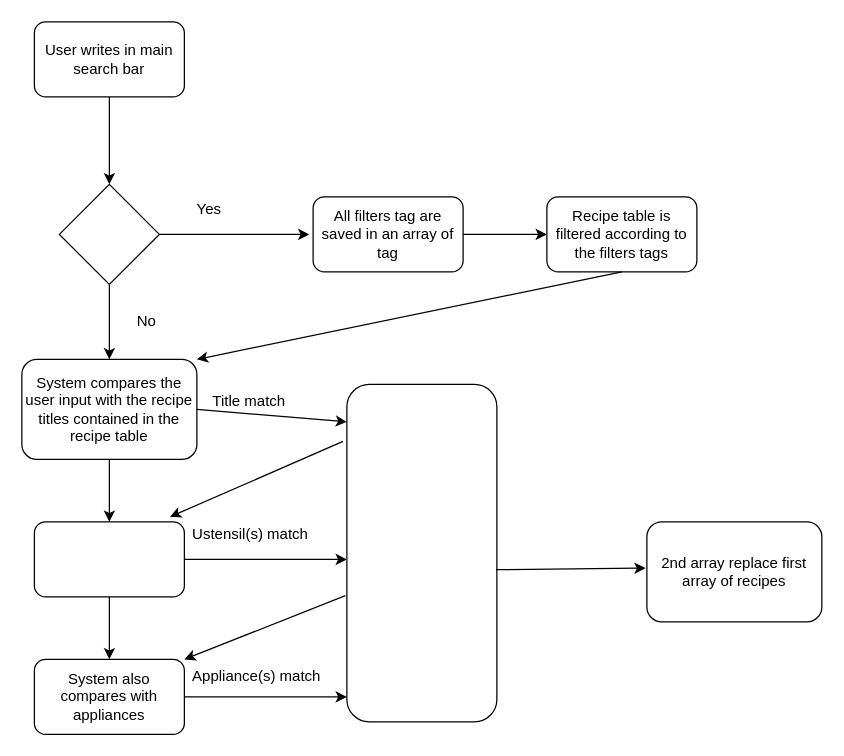
Image size: 844x756. Some labels were removed from this diagram. The shapes that lost their labels are listed below. From the top down, each one's box as (x1, y1, x2, y2) in pixels, then its label:
(58, 183, 159, 284): Filter(s) exist(s)
(33, 521, 184, 597): System also compares with utensils
(346, 383, 497, 722): Recipe is add in a 2nd array
